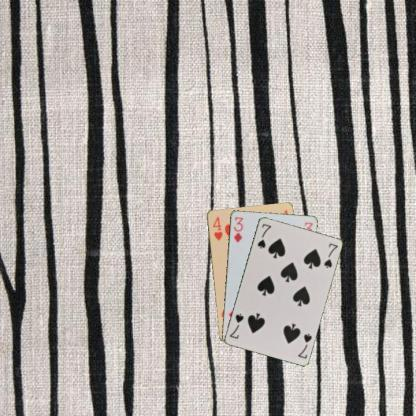3d: (231, 214, 245, 244)
4h: (209, 214, 224, 242)
7s: (254, 220, 272, 250), (295, 330, 313, 360)
